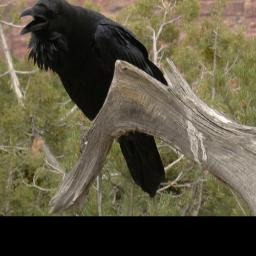Crow: (17, 0, 169, 200)
